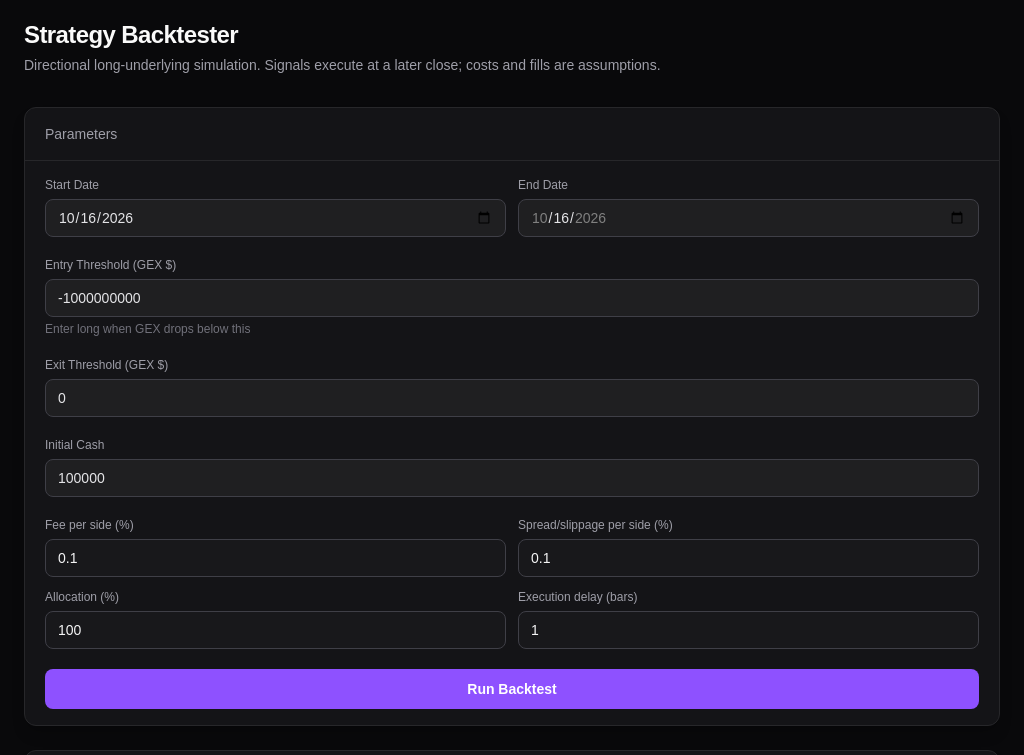
Scenario: BacktestPage submitted query cache › rejects a direct submit with invalid Allocation (%) before running corrected parameters
Replace the text in the number field labelled "Allocation (%)" with "101" at (276, 630), box left=45, top=611, right=506, bottom=649
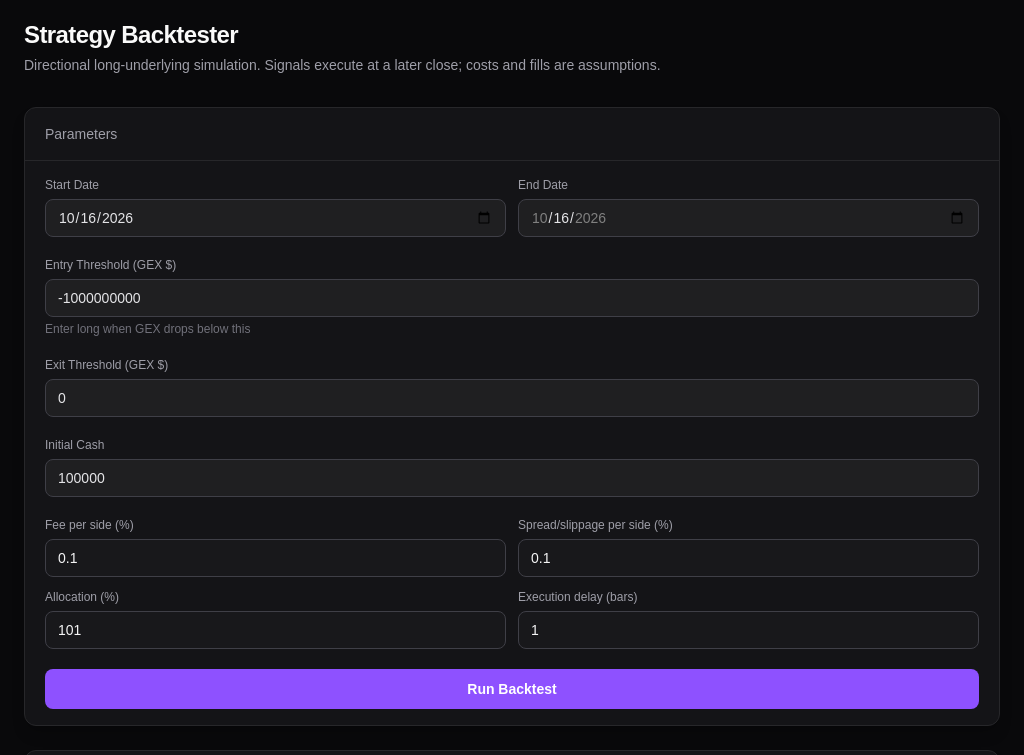
Submit the form named "Allocation (%)"
Replace the text in the number field labelled "Allocation (%)" with "50" at (276, 630), box left=45, top=611, right=506, bottom=649
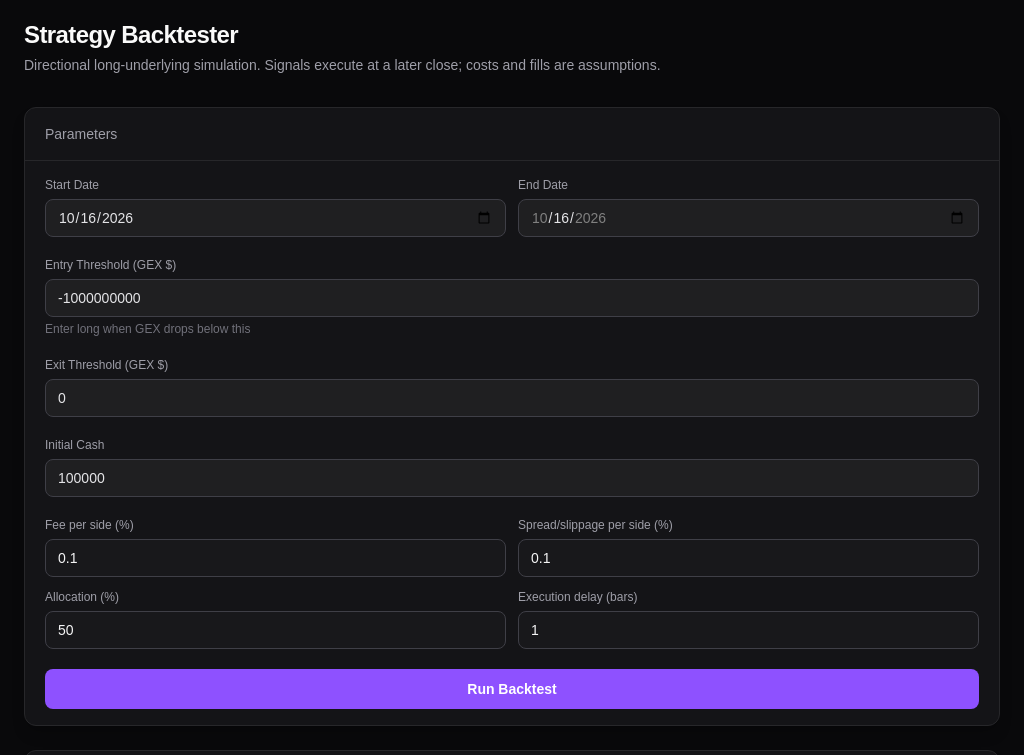
Submit the form named "Allocation (%)"
(page scrolled)
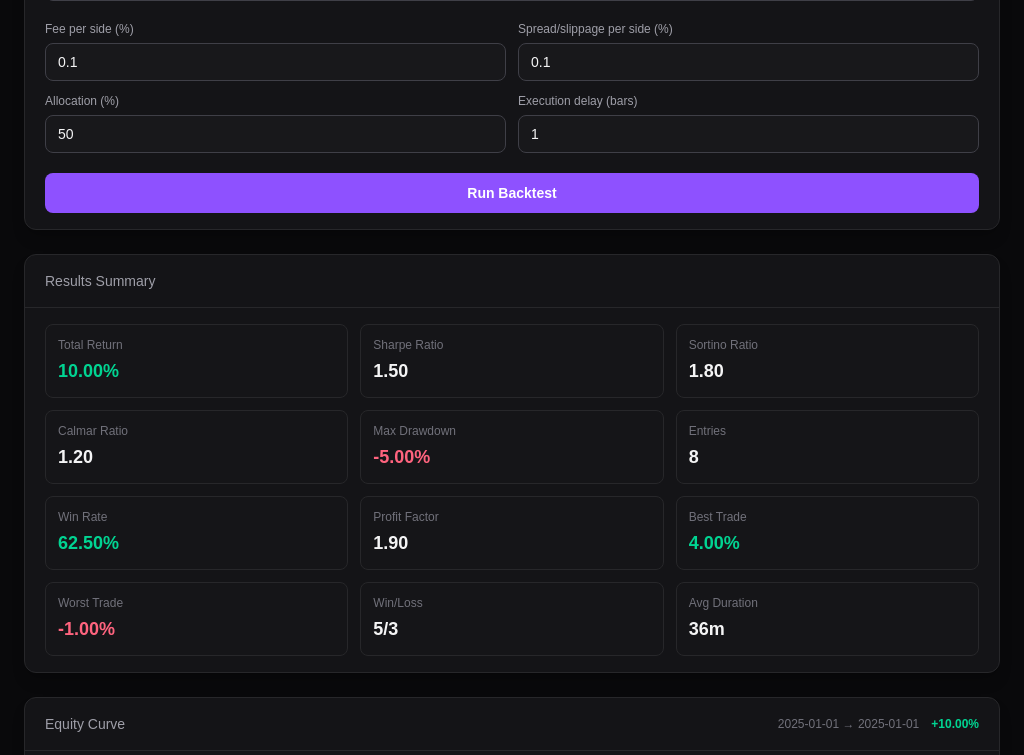
expect the text "10.00%" is shown: met, box left=58, top=361, right=119, bottom=381
